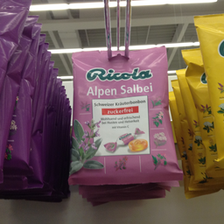candy: (65, 47, 180, 185)
